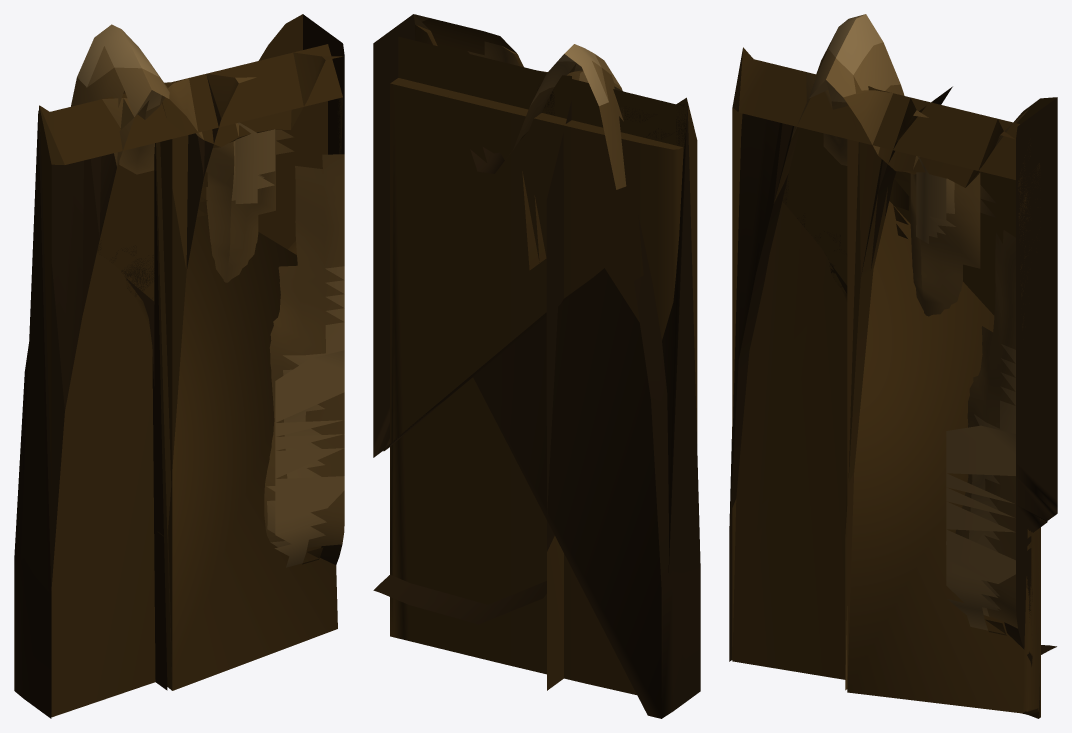
The model's file is ixm_wall_end_l_low.glb.
3 views of the same model, side by side, from view 1: azimuth 30°, elevation 25°; view 2: azimuth 150°, elevation 25°; view 3: azimuth 330°, elevation 25° (orthographic).
Parts seen in each view (by area): view 1: ixm_wall_end_l_low_rock_end_l, ixm_wall_end_l_low_rock_back_end_l, ixm_wall_end_l_low_rock_back_slot, ixm_wall_end_l_low_rock_slot; view 2: ixm_wall_end_l_low_rock_back_end_l, ixm_wall_end_l_low_rock_end_l, ixm_wall_end_l_low_rock_slot, ixm_wall_end_l_low_rock_back_slot; view 3: ixm_wall_end_l_low_rock_back_end_l, ixm_wall_end_l_low_rock_end_l, ixm_wall_end_l_low_rock_back_slot, ixm_wall_end_l_low_rock_slot.
Part boxes in pixels (x1,y1,x2,y2): ixm_wall_end_l_low_rock_end_l: [14, 14, 344, 718]; ixm_wall_end_l_low_rock_back_end_l: [39, 44, 342, 717]; ixm_wall_end_l_low_rock_back_slot: [160, 82, 342, 690]; ixm_wall_end_l_low_rock_slot: [152, 73, 344, 690]; ixm_wall_end_l_low_rock_back_end_l: [390, 36, 697, 694]; ixm_wall_end_l_low_rock_end_l: [373, 14, 700, 718]; ixm_wall_end_l_low_rock_slot: [373, 14, 571, 690]; ixm_wall_end_l_low_rock_back_slot: [391, 63, 569, 121]; ixm_wall_end_l_low_rock_back_end_l: [732, 47, 1040, 718]; ixm_wall_end_l_low_rock_end_l: [729, 14, 1057, 666]; ixm_wall_end_l_low_rock_back_slot: [847, 86, 1040, 714]; ixm_wall_end_l_low_rock_slot: [845, 86, 1056, 690].
Bounding box in the file's own units: 10 × 21.28 × 2.5.
